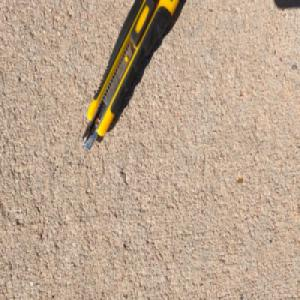Cutter: (81, 0, 184, 153)
